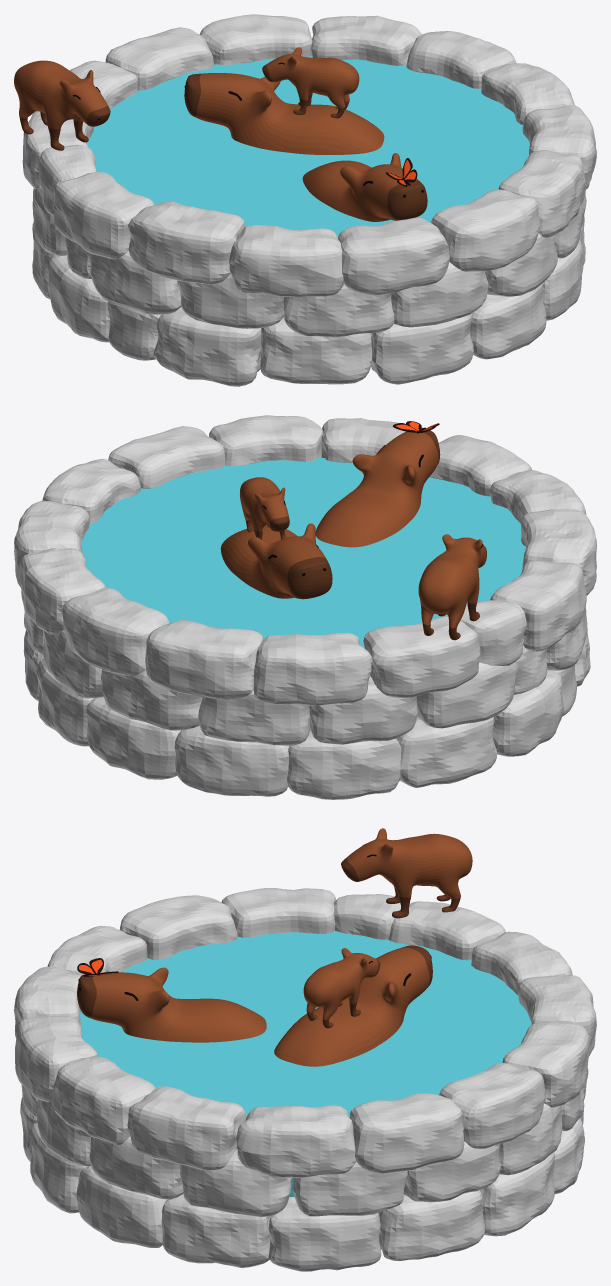
Rendered from LUZ.glb.
3 renders of one model, top to bottom at view 1: azimuth 30°, elevation 25°; view 2: azimuth 150°, elevation 25°; view 3: azimuth 270°, elevation 25°, orthographic. The views are drawn at different scales.
Parts seen in each view (by area): view 1: Cylinder, Plane.003, Cube.043, Cube.042, Cube.041, Cube.040, Cube.014, Cube.044, Plane, Cube.013, Cube.012, Plane.006 (+24 smaller); view 2: Cylinder, Plane, Cube.032, Cube.033, Cube.031, Cube.034, Cube.004, Cube.003, Plane.003, Cube.044, Cube.002, Cube.005 (+23 smaller); view 3: Cylinder, Plane, Plane.003, Cube.037, Cube.036, Cube.038, Plane.006, Cube.008, Cube.035, Cube.039, Cube.009, Cube.007 (+22 smaller).
Boxes of the visible parts, x1,y1,x2,y2 form: Cylinder: [87, 55, 529, 237]; Plane.003: [184, 73, 384, 154]; Cube.043: [128, 201, 244, 284]; Cube.042: [229, 225, 343, 296]; Cube.041: [338, 217, 449, 295]; Cube.040: [431, 189, 540, 271]; Cube.014: [153, 307, 261, 386]; Cube.044: [53, 172, 154, 259]; Plane: [302, 153, 427, 221]; Cube.013: [260, 317, 372, 384]; Cube.012: [371, 314, 473, 384]; Plane.006: [14, 60, 110, 150]; Cylinder: [81, 458, 526, 648]; Plane: [315, 427, 440, 547]; Cube.032: [253, 633, 372, 706]; Cube.033: [145, 620, 263, 700]; Cube.031: [363, 616, 480, 697]; Cube.034: [62, 588, 169, 676]; Cube.004: [174, 725, 289, 796]; Cube.003: [287, 730, 401, 799]; Plane.003: [220, 523, 332, 599]; Cube.044: [490, 560, 586, 651]; Cube.002: [396, 717, 497, 787]; Cube.005: [86, 697, 180, 779]; Cylinder: [80, 931, 531, 1197]; Plane: [77, 967, 266, 1042]; Plane.003: [274, 945, 432, 1066]; Cube.037: [236, 1105, 356, 1177]; Cube.036: [349, 1093, 464, 1173]; Cube.038: [127, 1086, 246, 1170]; Plane.006: [341, 828, 472, 918]; Cube.008: [268, 1197, 381, 1271]; Cube.035: [439, 1063, 545, 1148]; Cube.039: [52, 1056, 155, 1145]; Cube.009: [161, 1194, 270, 1267]; Cube.007: [379, 1190, 485, 1260].
Size of the model in its own units: 8.43 by 3.62 by 8.41.
